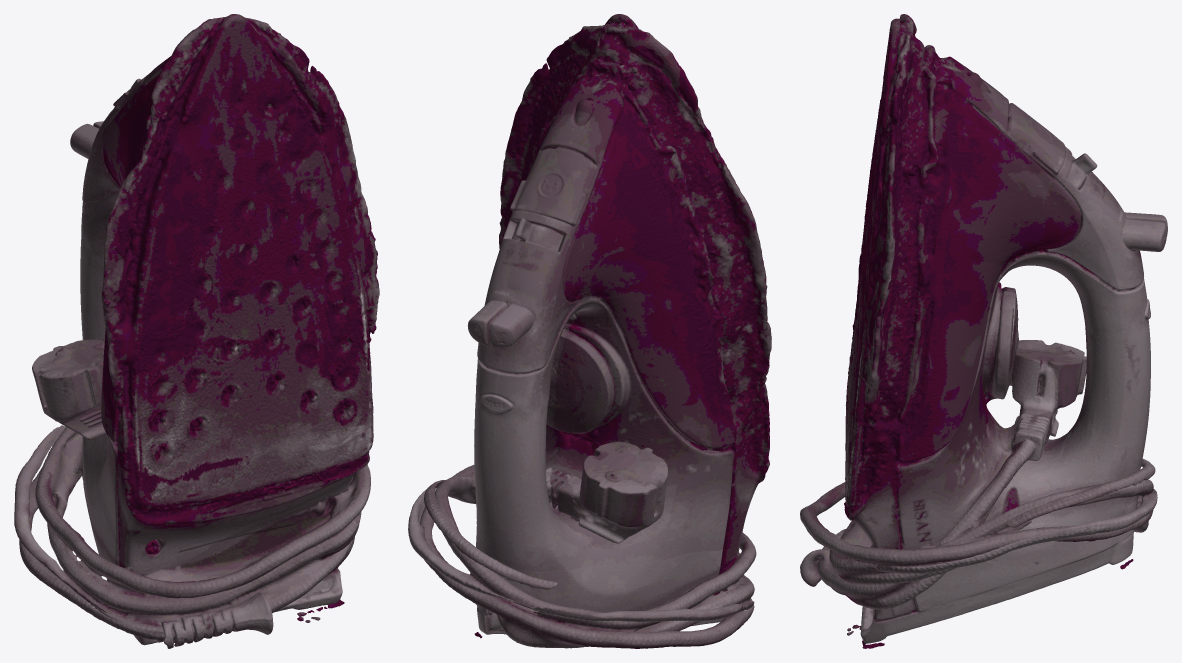
The picture shows the model from 3 angles, left to right: view 1: azimuth 30°, elevation 25°; view 2: azimuth 150°, elevation 25°; view 3: azimuth 270°, elevation 25°; orthographic projection. The views are drawn at different scales.
Bounding box in the file's own units: 151 × 283 × 161.
